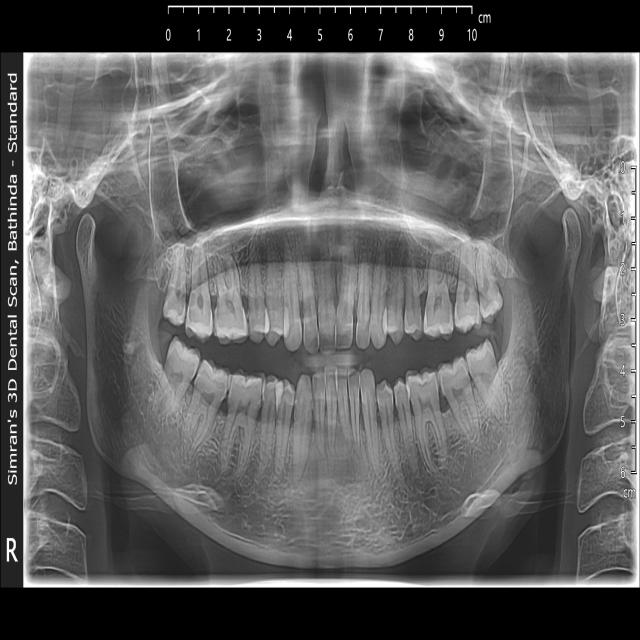Mandibular Canal: (437, 363, 543, 518), (115, 341, 215, 489)
maxillary sinus: (400, 90, 514, 256), (149, 118, 270, 255)
